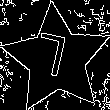L_S: (36, 31, 77, 87)
